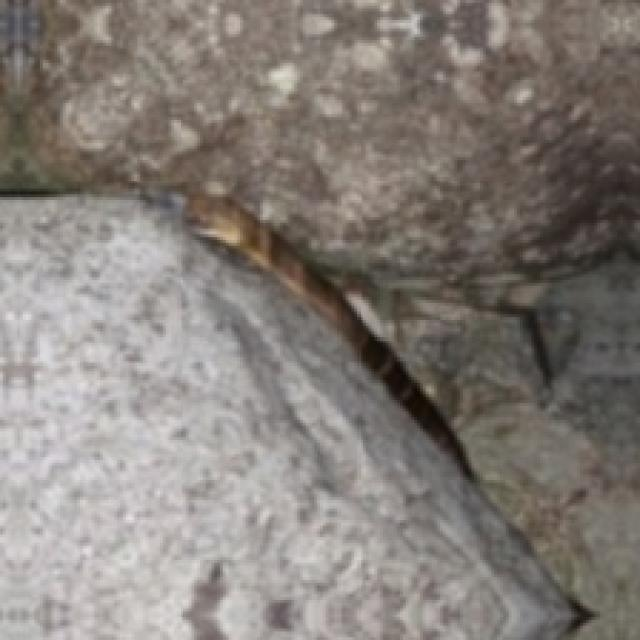king cobra: (186, 194, 474, 477)
